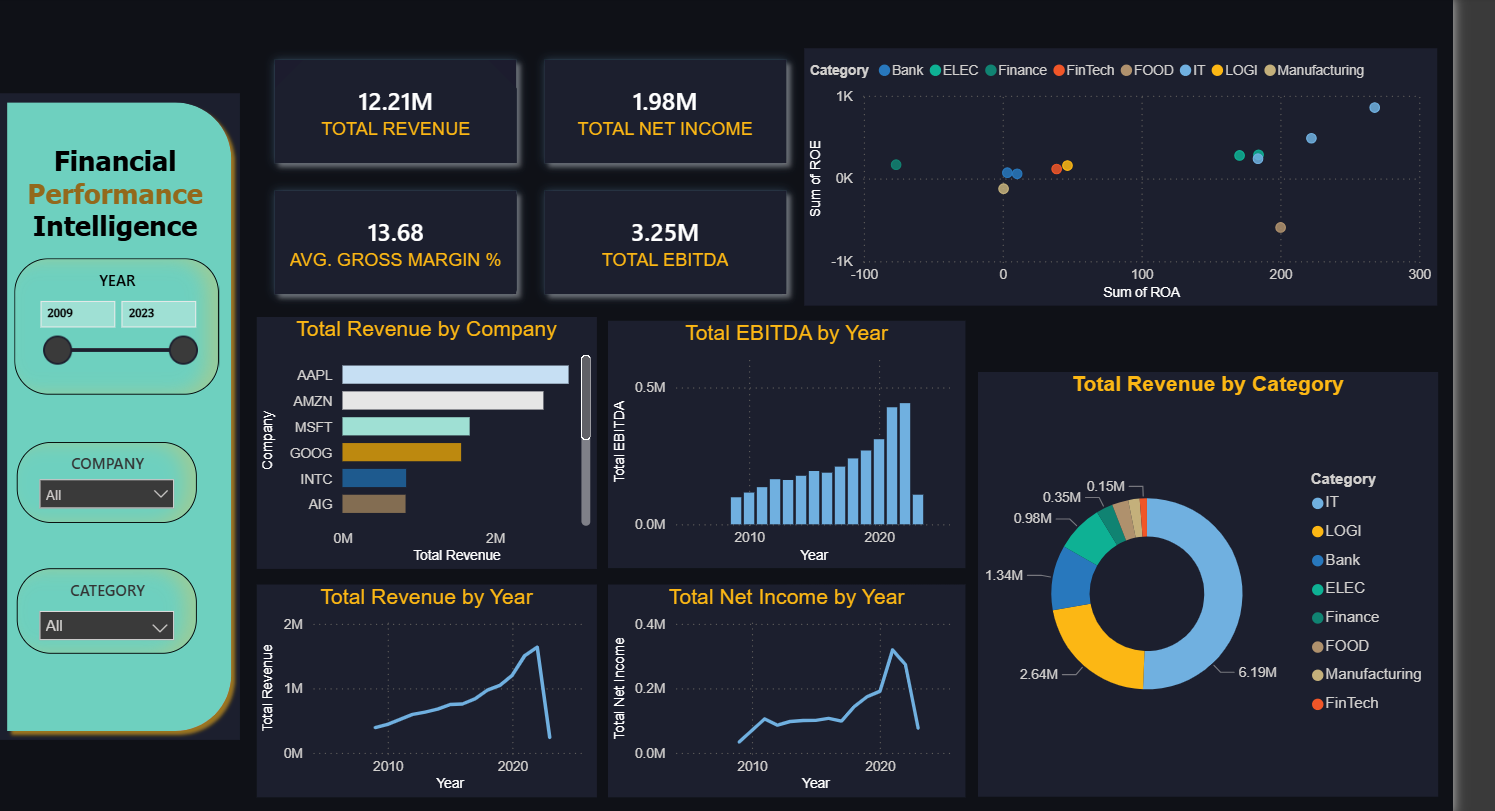

This screenshot's page, from the dashboard's own definition file:
{"tool":"powerbi","page":{"name":"Financial Performance Intelligence","canvas":[1280,720],"ordinal":0},"visuals":[{"type":"lineChart","fields":{"Y":["Financial Statements.Total Revenue"],"Category":["Financial Statements.Year"]},"box":[227.4,516.7,298.8,186.9],"z":0},{"type":"donutChart","fields":{"Category":["Financial Statements.Category"],"Y":["Financial Statements.Total Revenue"]},"box":[862.1,329.9,404.6,373.9],"z":1000},{"type":"clusteredBarChart","fields":{"Category":["Financial Statements.Company "],"Y":["Financial Statements.Total Revenue"]},"box":[227.4,281,298.8,221.4],"z":2000},{"type":"clusteredColumnChart","fields":{"Category":["Financial Statements.Year"],"Y":["Financial Statements.Total EBITDA"]},"box":[536.9,284.5,314.3,217.9],"z":3000},{"type":"lineChart","fields":{"Category":["Financial Statements.Year"],"Y":["Financial Statements.Total Net Income"]},"box":[536.6,516.8,314.5,186.9],"z":4000},{"type":"scatterChart","fields":{"X":["Sum(Financial Statements.ROA)"],"Y":["Sum(Financial Statements.ROE)"],"Category":["Financial Statements.Company "],"Series":["Financial Statements.Category"]},"box":[709.5,45.2,557.1,226.2],"z":5000},{"type":"shape","box":[0,84.5,213.1,569.1],"z":6000},{"type":"textbox","box":[11.9,123.8,182.1,106],"z":7000},{"type":"slicer","title":"COMPANY","fields":{"Values":["Financial Statements.Company "]},"box":[16.7,391.7,158.3,71.4],"z":8000},{"type":"slicer","title":"CATEGORY","fields":{"Values":["Financial Statements.Category"]},"box":[16.7,502.4,158.3,75],"z":9000},{"type":"slicer","title":"YEAR","fields":{"Values":["Financial Statements.Year"]},"box":[14.3,229.8,179.8,120.2],"z":10000},{"type":"cardVisual","fields":{"Data":["Financial Statements.Total Revenue","Financial Statements.Total Net Income","Financial Statements.Avg Gross Margin %","Financial Statements.Total EBITDA"]},"box":[214.3,26.2,508.3,264.3],"z":11000}]}

Visuals, with their boxes on the page's 1280x720 design canvas (x1, y1, x2, y2). These are canvas units, not pixel positions in the 1495x811 screenshot, which may show the page scaled, cropped or inside an application window:
lineChart - Financial Statements.Total Revenue x Financial Statements.Year: detection(227, 517, 526, 704)
donutChart - Financial Statements.Category x Financial Statements.Total Revenue: detection(862, 330, 1267, 704)
clusteredBarChart - Financial Statements.Company  x Financial Statements.Total Revenue: detection(227, 281, 526, 502)
clusteredColumnChart - Financial Statements.Year x Financial Statements.Total EBITDA: detection(537, 284, 851, 502)
lineChart - Financial Statements.Year x Financial Statements.Total Net Income: detection(537, 517, 851, 704)
scatterChart - Sum(Financial Statements.ROA) x Sum(Financial Statements.ROE): detection(710, 45, 1267, 271)
shape: detection(0, 84, 213, 654)
textbox: detection(12, 124, 194, 230)
"COMPANY" slicer: detection(17, 392, 175, 463)
"CATEGORY" slicer: detection(17, 502, 175, 577)
"YEAR" slicer: detection(14, 230, 194, 350)
cardVisual - Financial Statements.Total Revenue x Financial Statements.Total Net Income: detection(214, 26, 723, 290)
